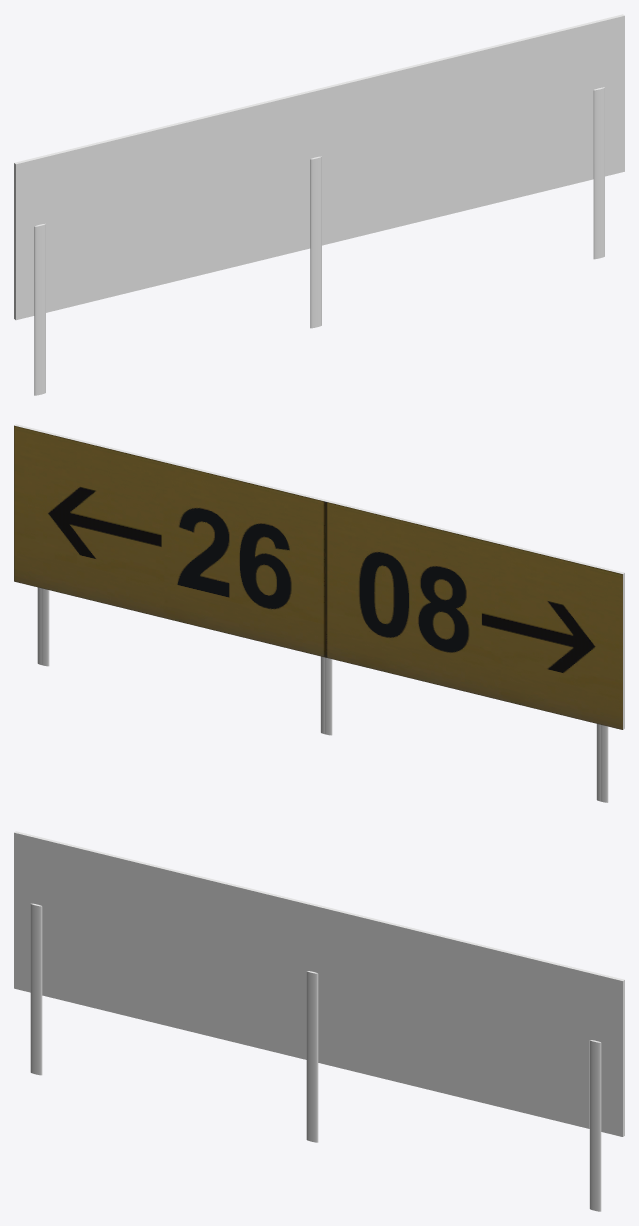
The model's file is lszf-runwaydirection-sign.gltf.
3 views of the same model, one above another, from view 1: azimuth 30°, elevation 25°; view 2: azimuth 150°, elevation 25°; view 3: azimuth 330°, elevation 25° (orthographic).
Parts seen in each view (by area): view 1: Box001, Cylinder002.001, Cylinder001, Cylinder002; view 2: Box001, Cylinder002, Cylinder002.001, Cylinder001; view 3: Box001, Cylinder001, Cylinder002, Cylinder002.001.
Boxes of the visible parts, x1,y1,x2,y2 form: Box001: (14, 14, 624, 320); Cylinder002.001: (310, 156, 321, 328); Cylinder001: (34, 223, 45, 395); Cylinder002: (593, 87, 604, 259); Box001: (14, 424, 624, 729); Cylinder002: (37, 587, 49, 666); Cylinder002.001: (320, 656, 332, 735); Cylinder001: (596, 724, 608, 802); Box001: (14, 831, 624, 1136); Cylinder001: (30, 903, 42, 1075); Cylinder002: (589, 1040, 601, 1211); Cylinder002.001: (306, 971, 318, 1142).
Bounding box in the file's own units: 2.27 × 0.8373 × 0.0231.
